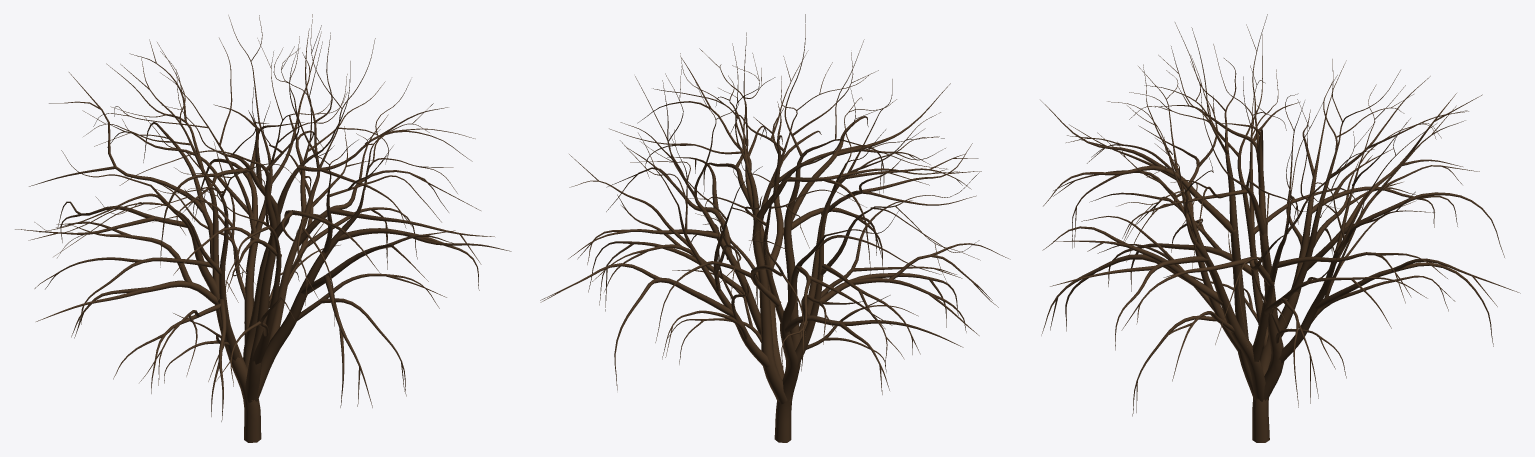
The model's file is SadTree.fbx.
3 views of the same model, side by side, from view 1: azimuth 30°, elevation 25°; view 2: azimuth 150°, elevation 25°; view 3: azimuth 270°, elevation 25° (orthographic). The views are drawn at different scales.
Visible parts, largest first — view 1: tree; view 2: tree; view 3: tree.
Part boxes in pixels (left/top/right/bottom): tree: left=15, top=14, right=511, bottom=442; tree: left=540, top=14, right=1010, bottom=442; tree: left=1040, top=14, right=1520, bottom=442.
Size of the model in its own units: 555 by 525 by 547.
